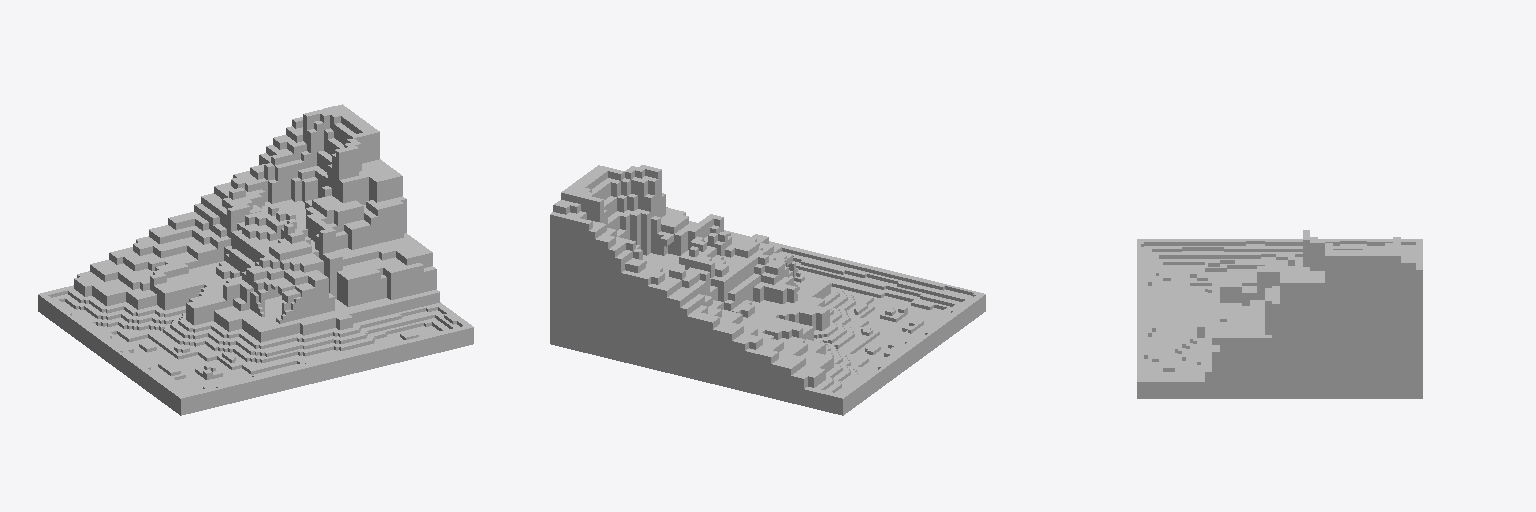
The model's file is volcan_with_cave.obj.
3 views of the same model, side by side, from view 1: azimuth 30°, elevation 25°; view 2: azimuth 150°, elevation 25°; view 3: azimuth 270°, elevation 25° (orthographic).
Parts seen in each view (by area): view 1: myvolcanwithcave; view 2: myvolcanwithcave; view 3: myvolcanwithcave.
Part boxes in pixels (bbox=[...]): myvolcanwithcave: bbox=[38, 104, 473, 415]; myvolcanwithcave: bbox=[550, 165, 985, 415]; myvolcanwithcave: bbox=[1137, 230, 1422, 398].
Bounding box in the file's own units: 90 × 42 × 76.